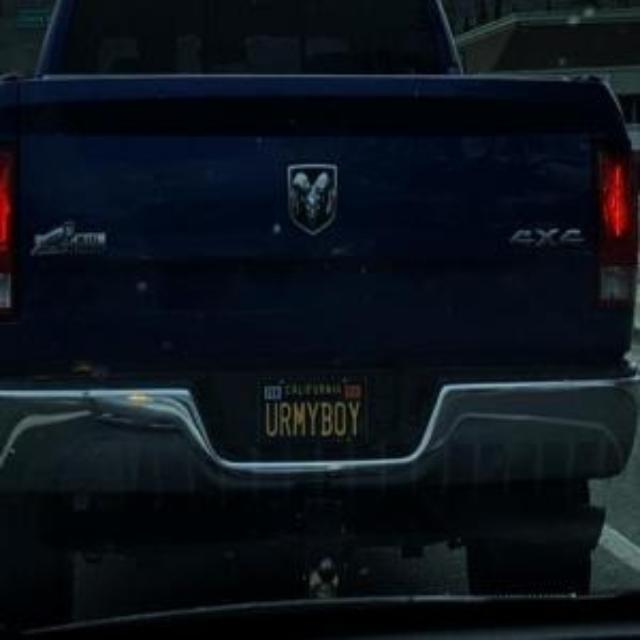License Plate: (256, 378, 369, 458)
